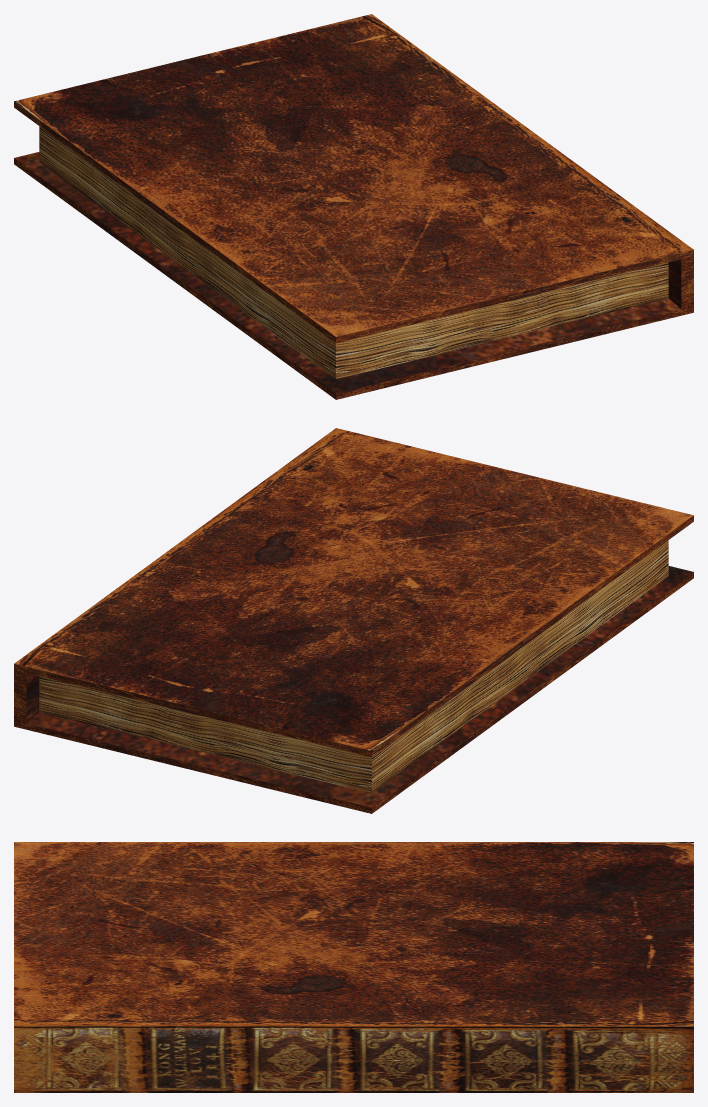
The model's file is old_book.glb.
3 views of the same model, one above another, from view 1: azimuth 30°, elevation 25°; view 2: azimuth 150°, elevation 25°; view 3: azimuth 270°, elevation 25° (orthographic). The views are drawn at different scales.
Parts seen in each view (by area): view 1: Cube_0; view 2: Cube_0; view 3: Cube_0.
Boxes of the visible parts, x1,y1,x2,y2 form: Cube_0: (14,14,693,399); Cube_0: (14,428,693,813); Cube_0: (14,842,693,1092).
Size of the model in its own units: 2 by 0.3359 by 3.12.
Materials: 1 (1 with a texture image).
